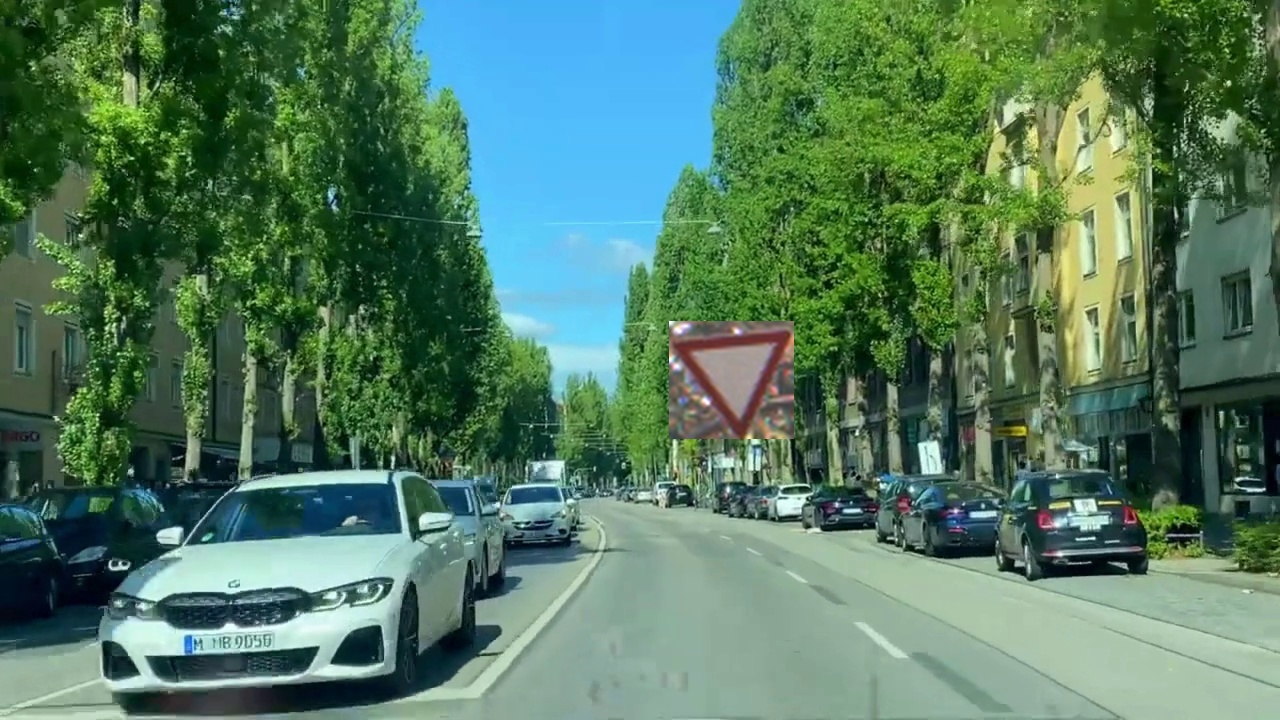Yield: (669, 321, 794, 439)
